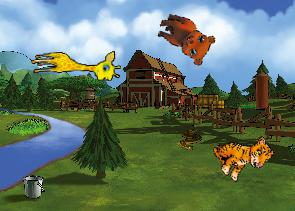bear: (150, 10, 218, 68)
giraffe: (30, 50, 121, 84)
tiger: (207, 120, 277, 188)
